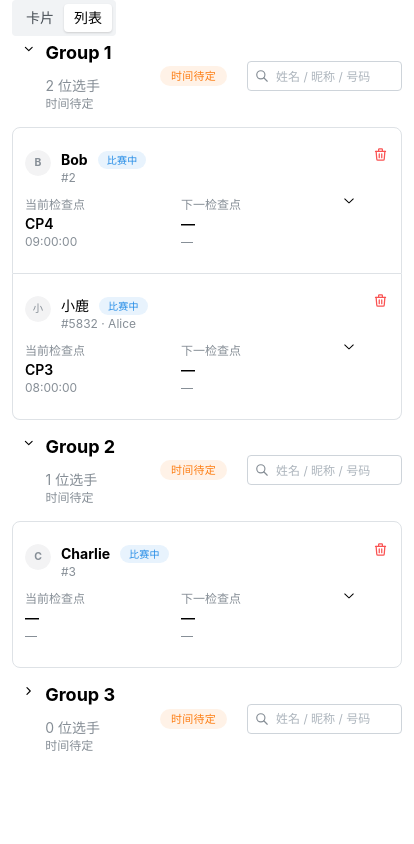
tracking group interactions › filters only its own group, shows no-match state, and restores progress order on clear
Later steps or results of the test are not shown.
Type "nothing" into the field named "筛选Group 1选手" at (324, 76), box left=247, top=61, right=402, bottom=91
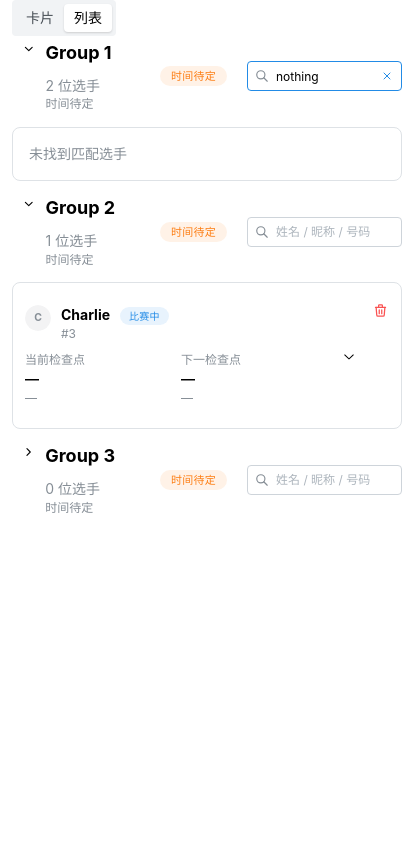
Expected: the text "未找到匹配选手" is shown, left=29, top=145, right=127, bottom=162
